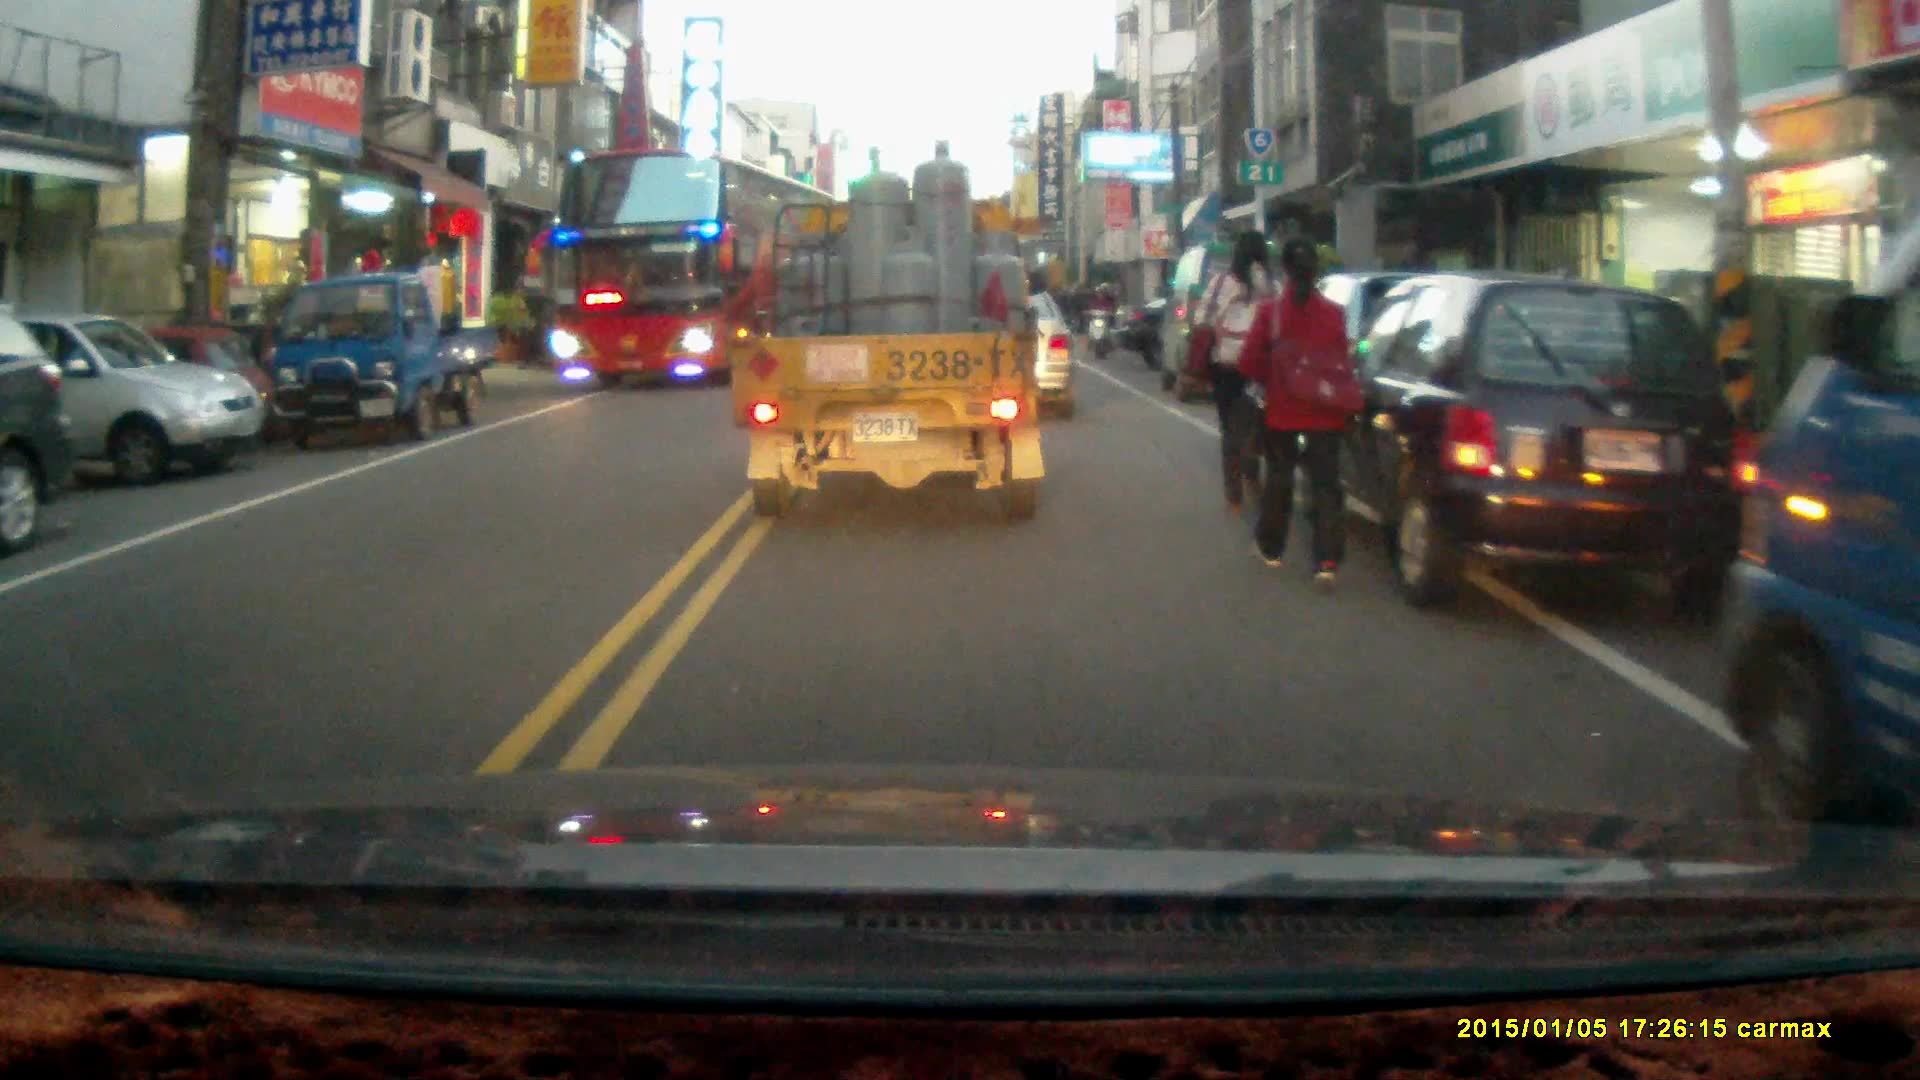pedestrian: (1236, 232, 1359, 595), (1198, 229, 1300, 524)
rider: (1083, 279, 1121, 362)
vehicle: (1311, 272, 1760, 623), (734, 142, 1054, 530), (548, 145, 841, 396), (1, 311, 265, 492), (268, 275, 500, 440), (1, 302, 79, 558)
